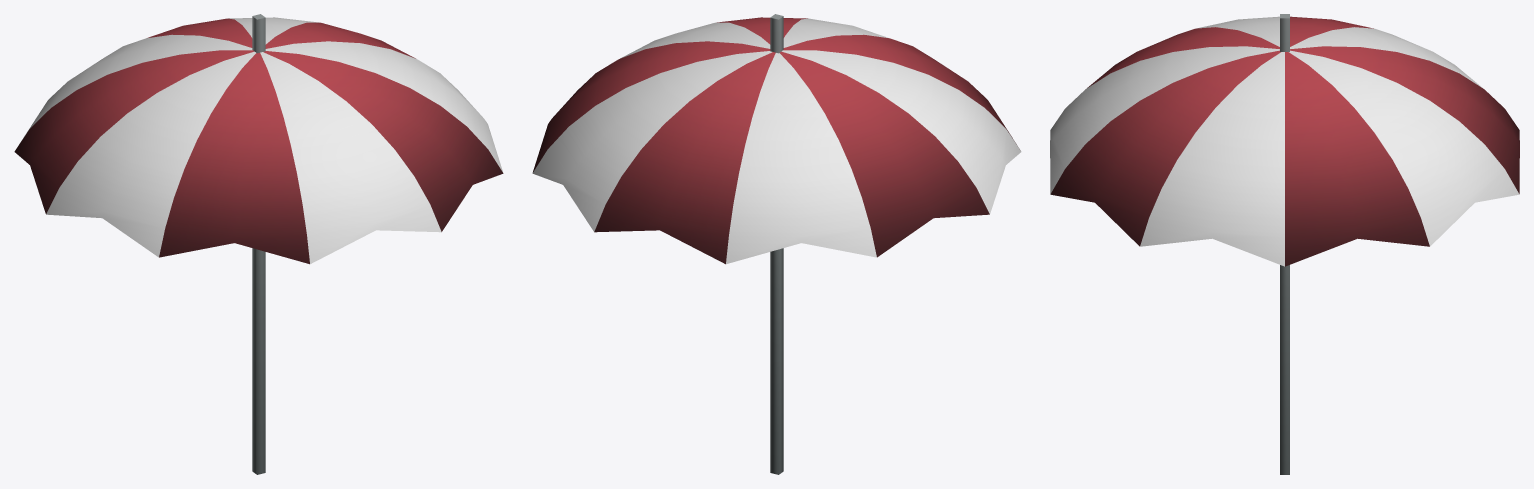
The model's file is ombrellone_1.fbx.
The picture shows the model from 3 angles, left to right: view 1: azimuth 30°, elevation 25°; view 2: azimuth 150°, elevation 25°; view 3: azimuth 270°, elevation 25°; orthographic projection.
Visible parts, largest first — view 1: ombrellone_1; view 2: ombrellone_1; view 3: ombrellone_1.
Part boxes in pixels (x1,y1,x2,y2): ombrellone_1: (14,14,503,474); ombrellone_1: (532,14,1021,474); ombrellone_1: (1050,14,1519,474).
Bounding box in the file's own units: 196 × 200 × 186.
